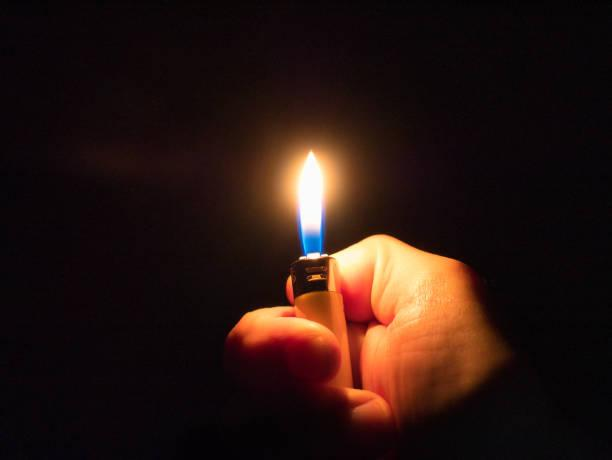Fire: (293, 150, 331, 254)
